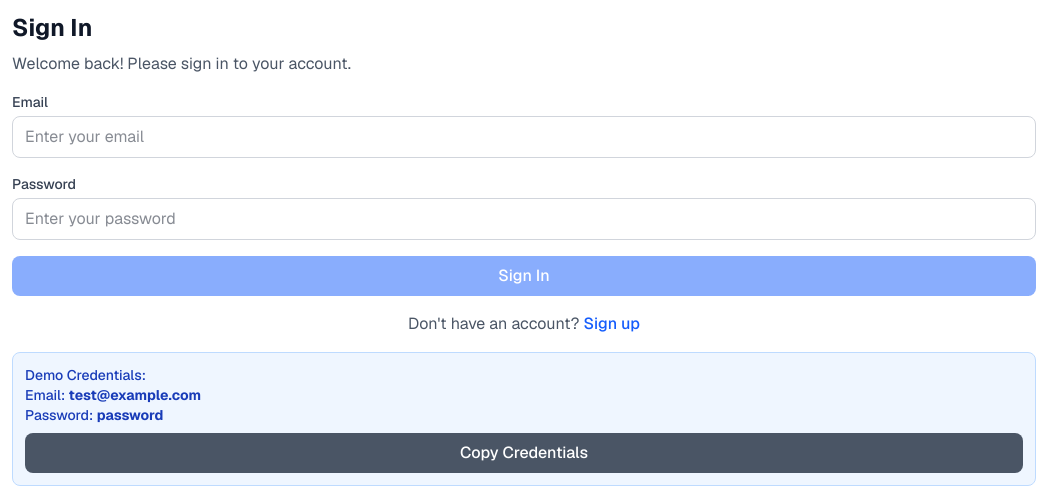
Scenario: LoginForm Component › disables submit button when email or password is empty
The width and height of the screenshot is (1048, 503).
Expected: the button "Sign In" is disabled, [12,256,1036,296]
Type "test@example.com" into the field labelled "Email" at (524, 137), box [12,116,1036,158]
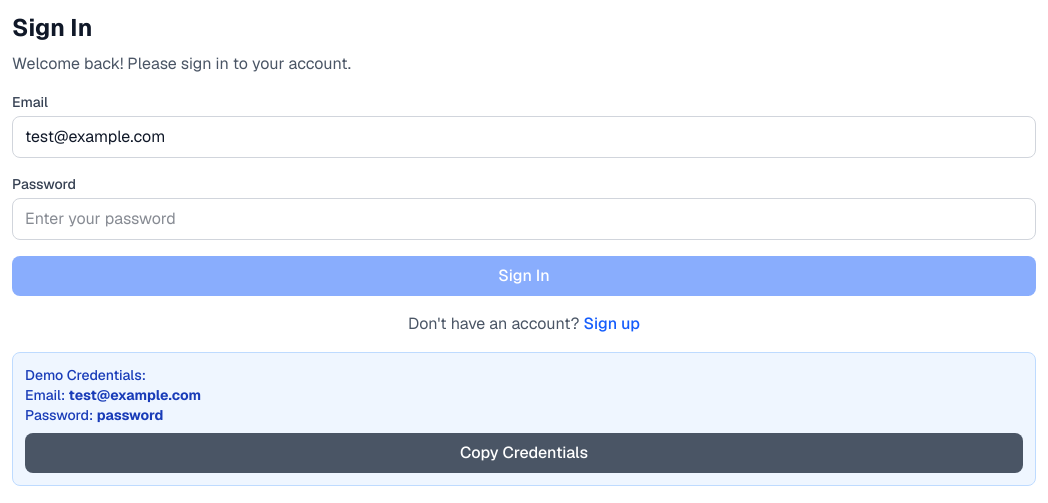
Type "password123" into the password field labelled "Password" at (524, 219), box [12,198,1036,240]
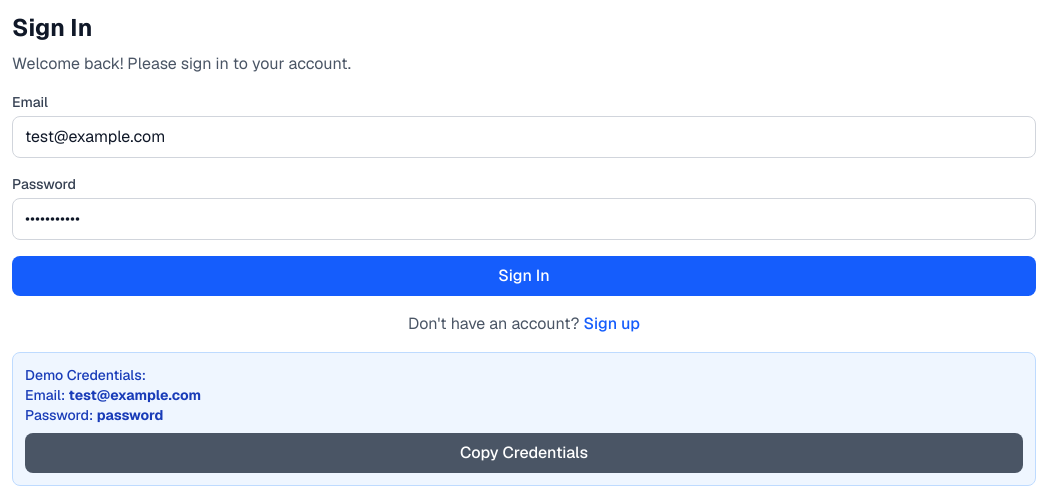
Expected: the button "Sign In" is enabled, [12,256,1036,296]
